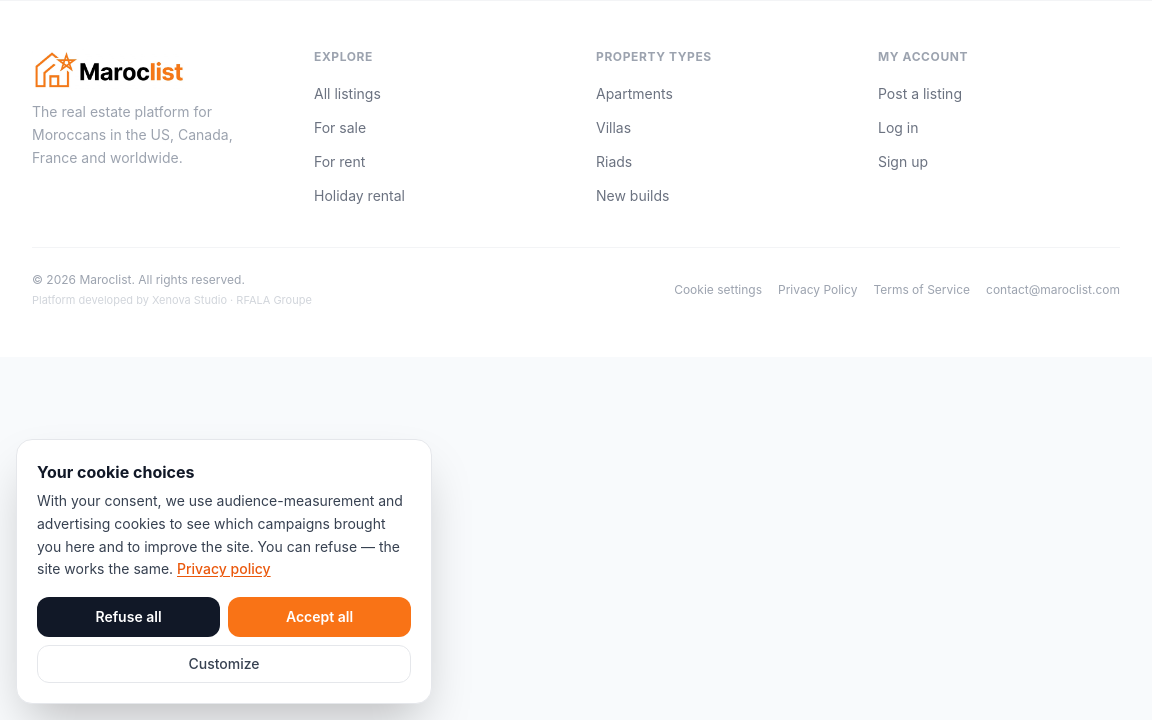
Scenario: footer Cookie settings link › reflects a choice made earlier in the same visit, and saving a change updates the cookie
This screenshot has width=1152, height=720.
Click the button "Refuse all" at (128, 617), box top-left (37, 597), bottom-right (220, 637)
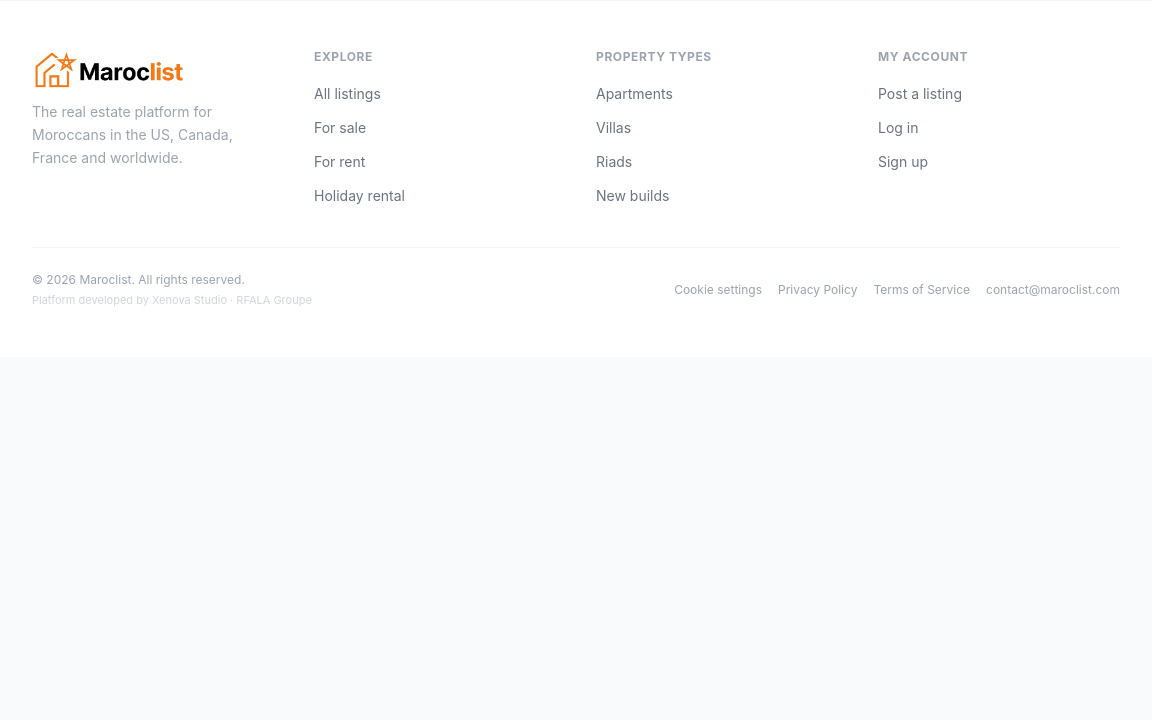
Click the button "Cookie settings" at (718, 290), box top-left (674, 282), bottom-right (762, 298)
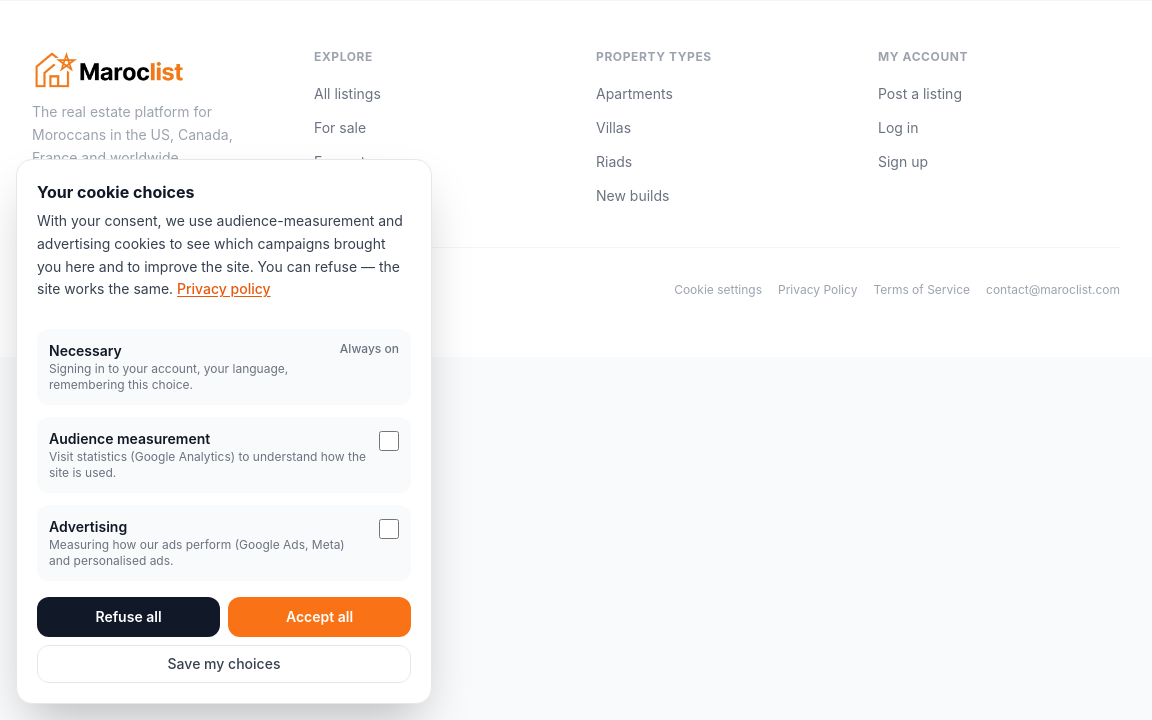
Expected: the 1st switch is not checked, top-left (379, 431), bottom-right (399, 451)
Expected: the 2nd switch is not checked
Expected: the 2nd switch is shown
Click the 2nd switch at (389, 529), box top-left (379, 519), bottom-right (399, 539)
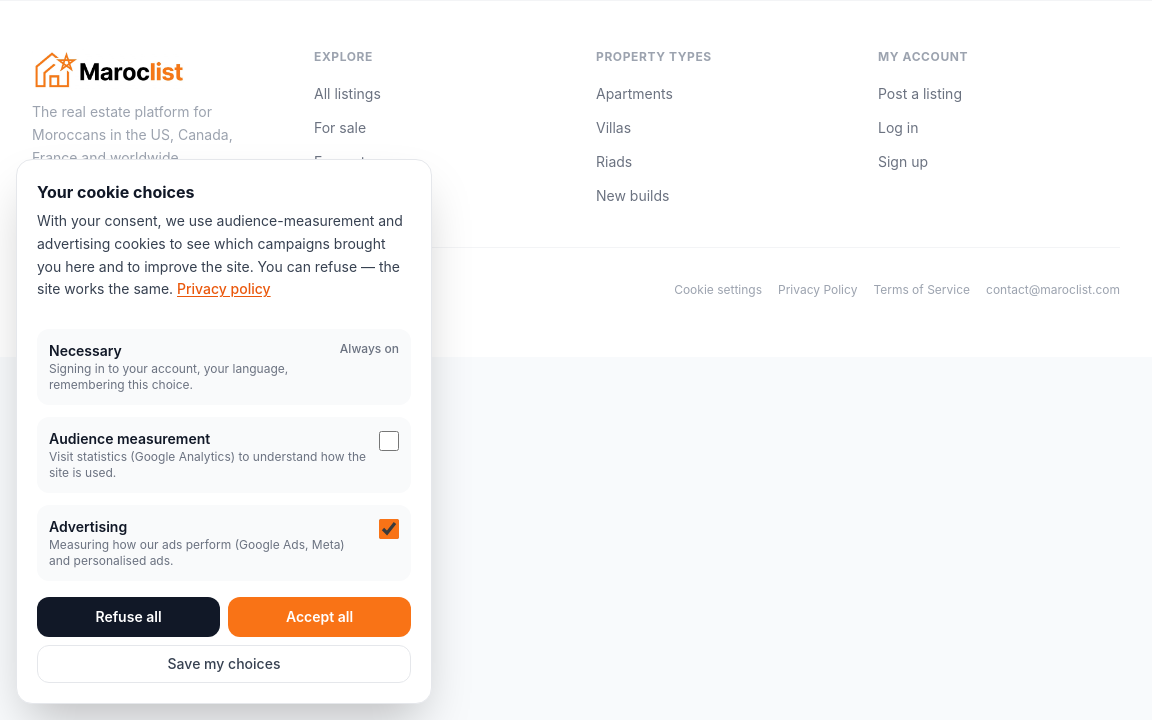
Expected: the button "Save my choices" is shown
Click the button "Save my choices" at (224, 664), box top-left (37, 645), bottom-right (411, 683)
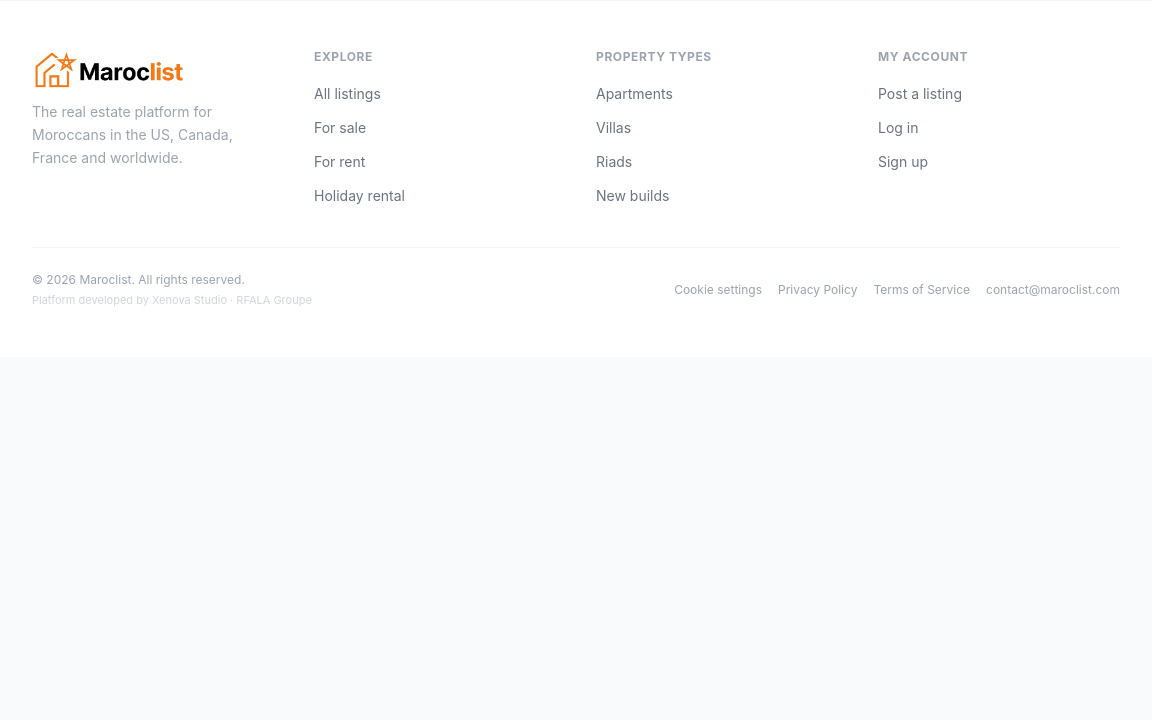
Click the button "Cookie settings" at (718, 290), box top-left (674, 282), bottom-right (762, 298)
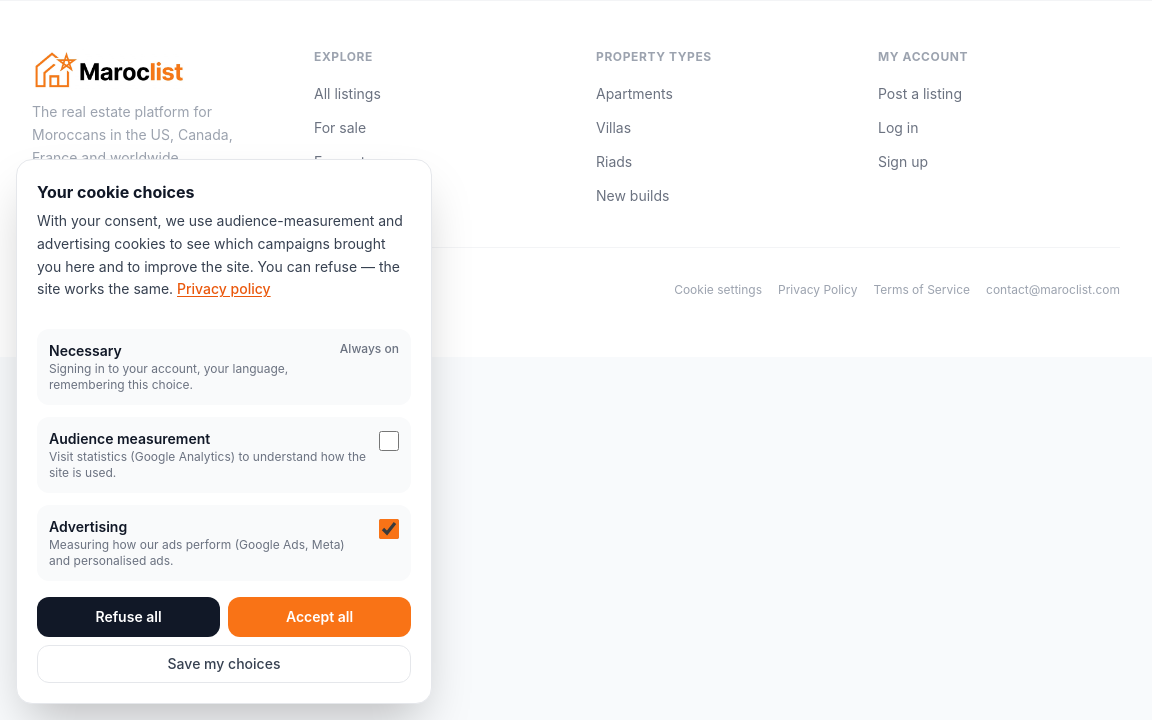
Expected: the 1st switch is not checked, top-left (379, 431), bottom-right (399, 451)
Expected: the 2nd switch is checked, top-left (379, 519), bottom-right (399, 539)
